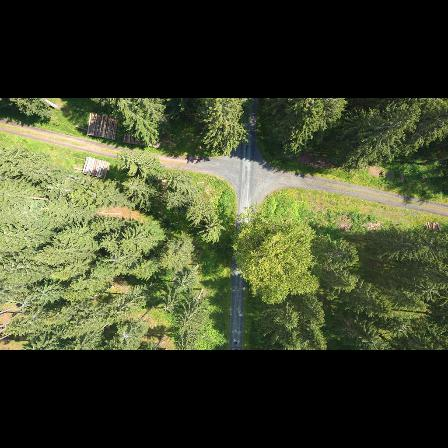Sick: (153, 299, 178, 319), (114, 327, 138, 347)
